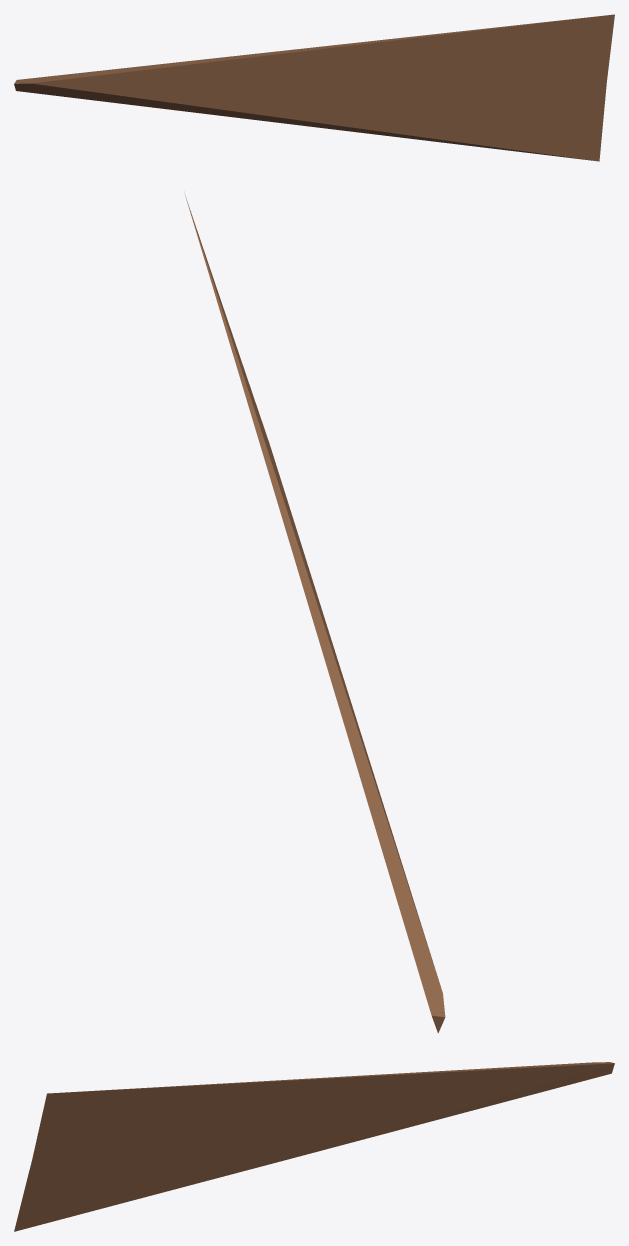
The model's file is WoodCellCube_003_cell_026.fbx.
3 views of the same model, one above another, from view 1: azimuth 30°, elevation 25°; view 2: azimuth 150°, elevation 25°; view 3: azimuth 270°, elevation 25° (orthographic). The views are drawn at different scales.
Parts seen in each view (by area): view 1: WoodCellCube_003_cell_026; view 2: WoodCellCube_003_cell_026; view 3: WoodCellCube_003_cell_026.
Boxes of the visible parts, bbox=[...] form: WoodCellCube_003_cell_026: bbox=[14, 14, 614, 161]; WoodCellCube_003_cell_026: bbox=[185, 195, 445, 1033]; WoodCellCube_003_cell_026: bbox=[14, 1062, 614, 1231].
Size of the model in its own units: 0.4985 by 0.176 by 0.4197.
Materials: 1 (1 with a texture image).
